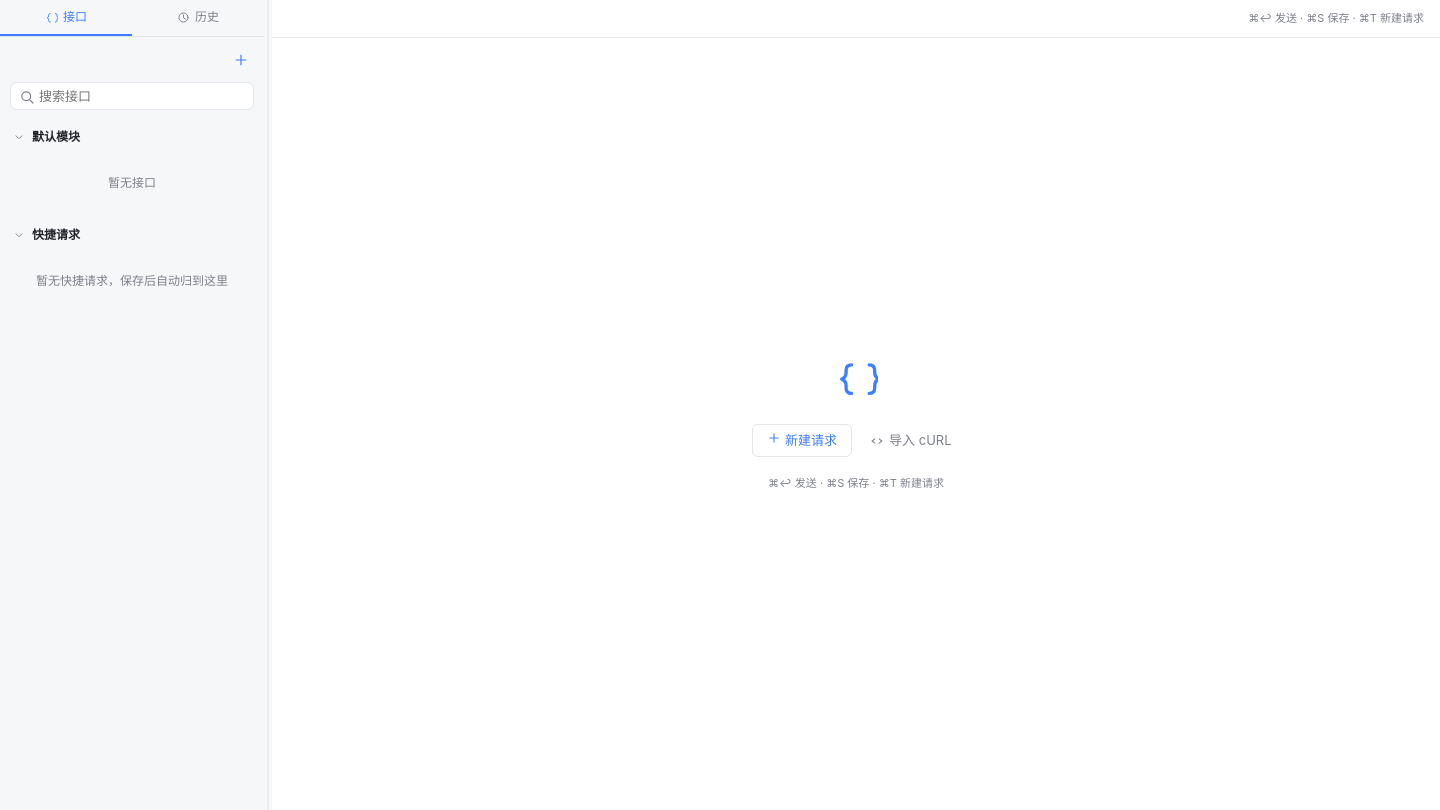
environment config › leaves the URL alone while no environment is active
Click the button "新建请求" at (802, 441), box [752, 424, 852, 457]
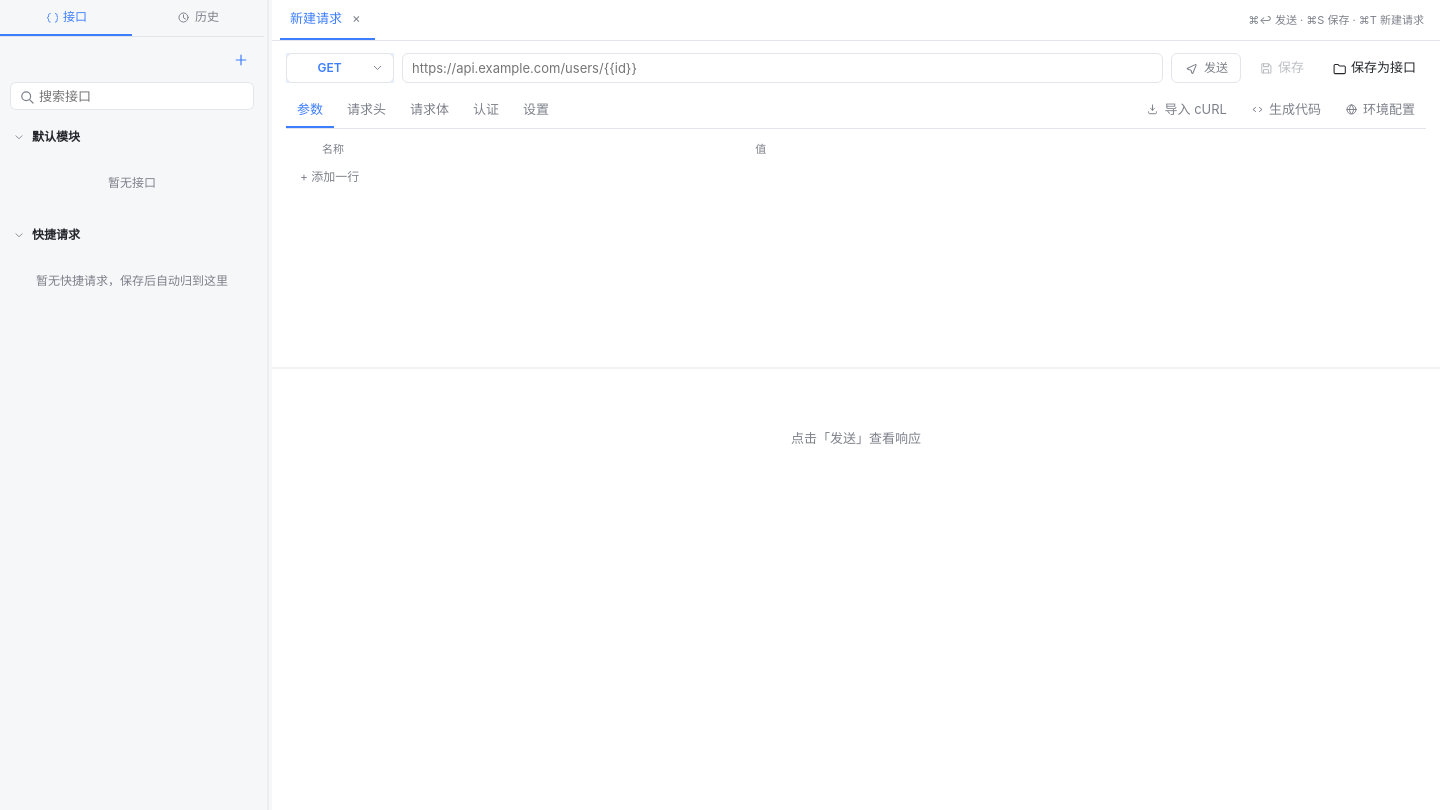
Type "https://api.example.com/users/1" into the field named "地址" at (782, 68), box [402, 52, 1163, 82]
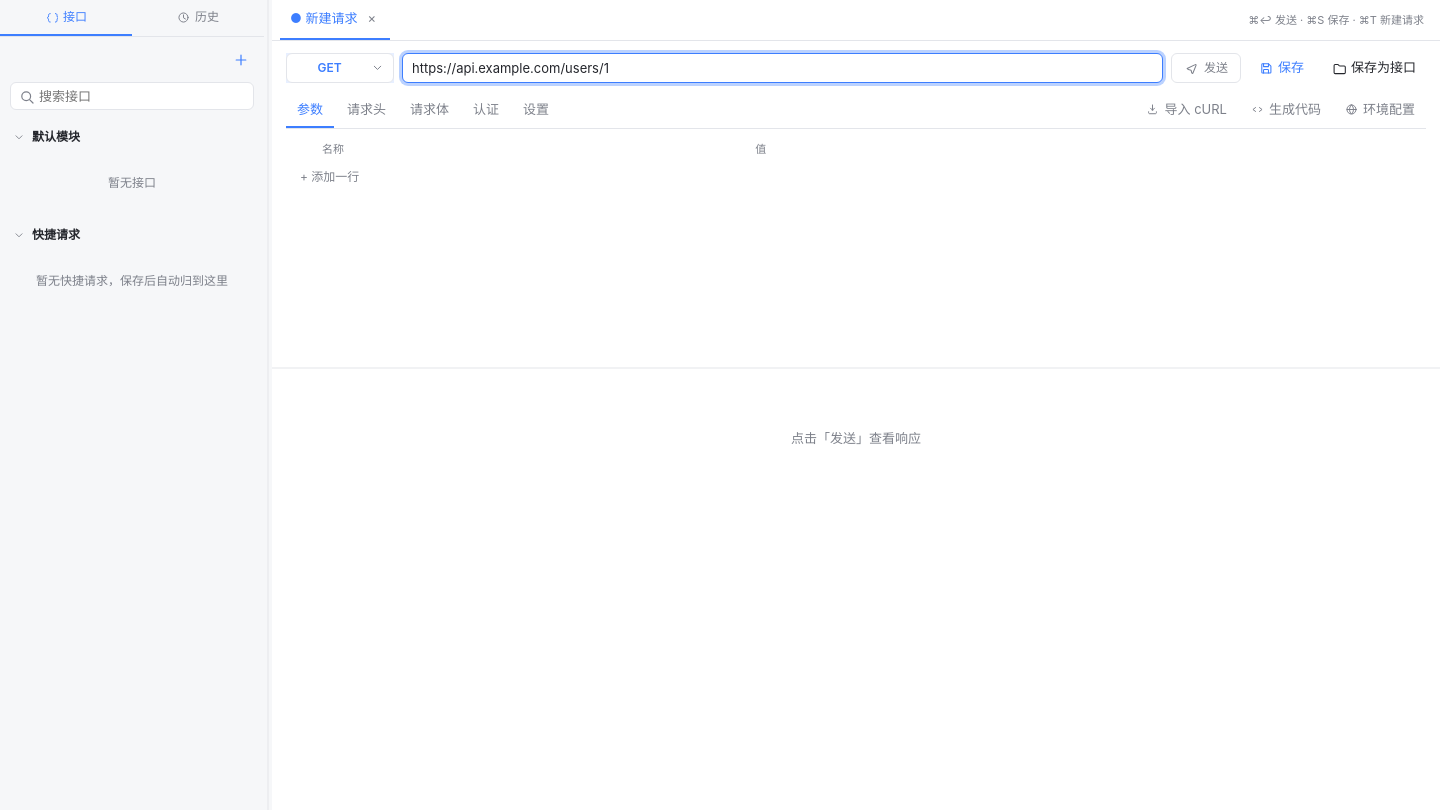
Click the button "环境配置" at (1380, 110), box [1334, 92, 1426, 128]
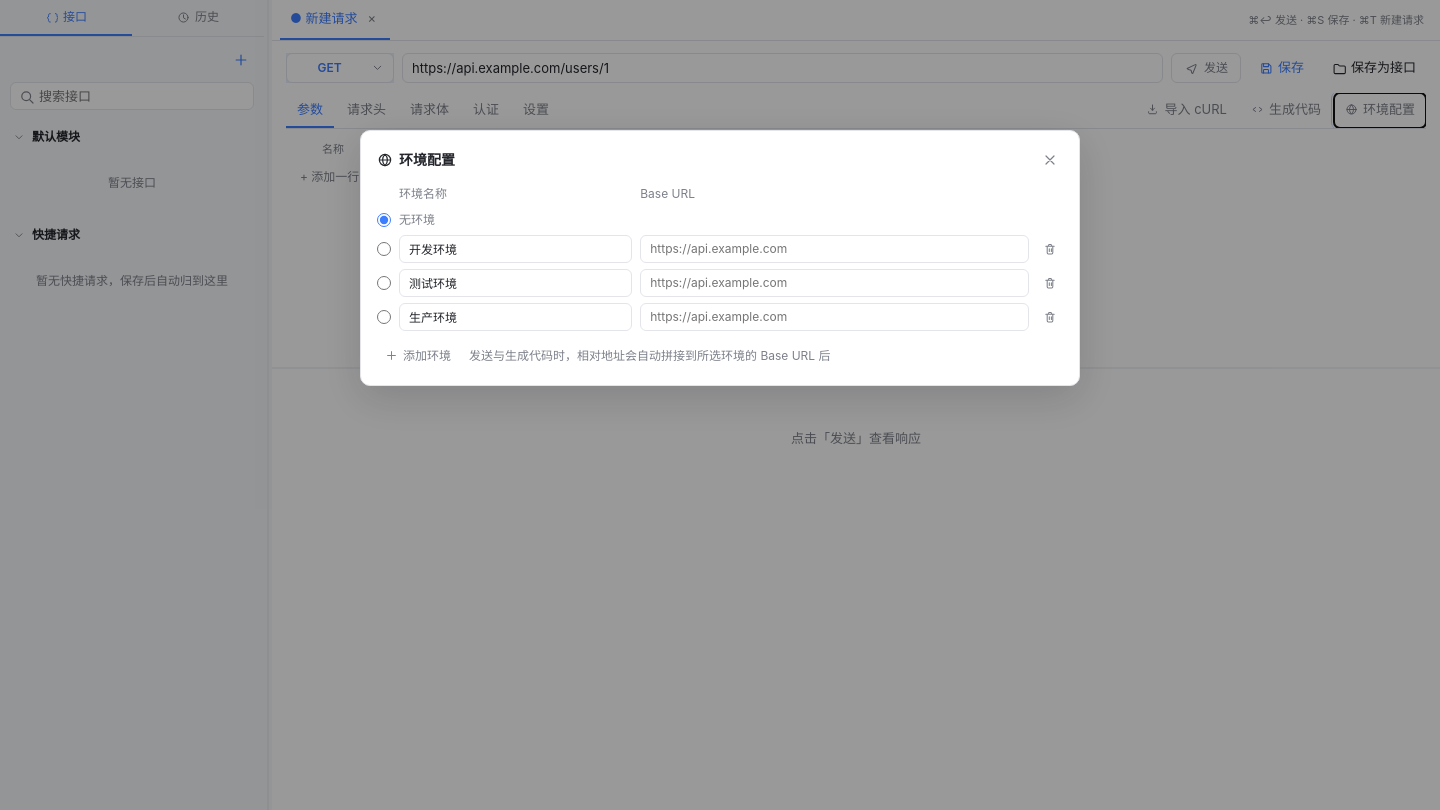
Click the button named "关闭" at (1050, 160), box [1037, 147, 1063, 173]
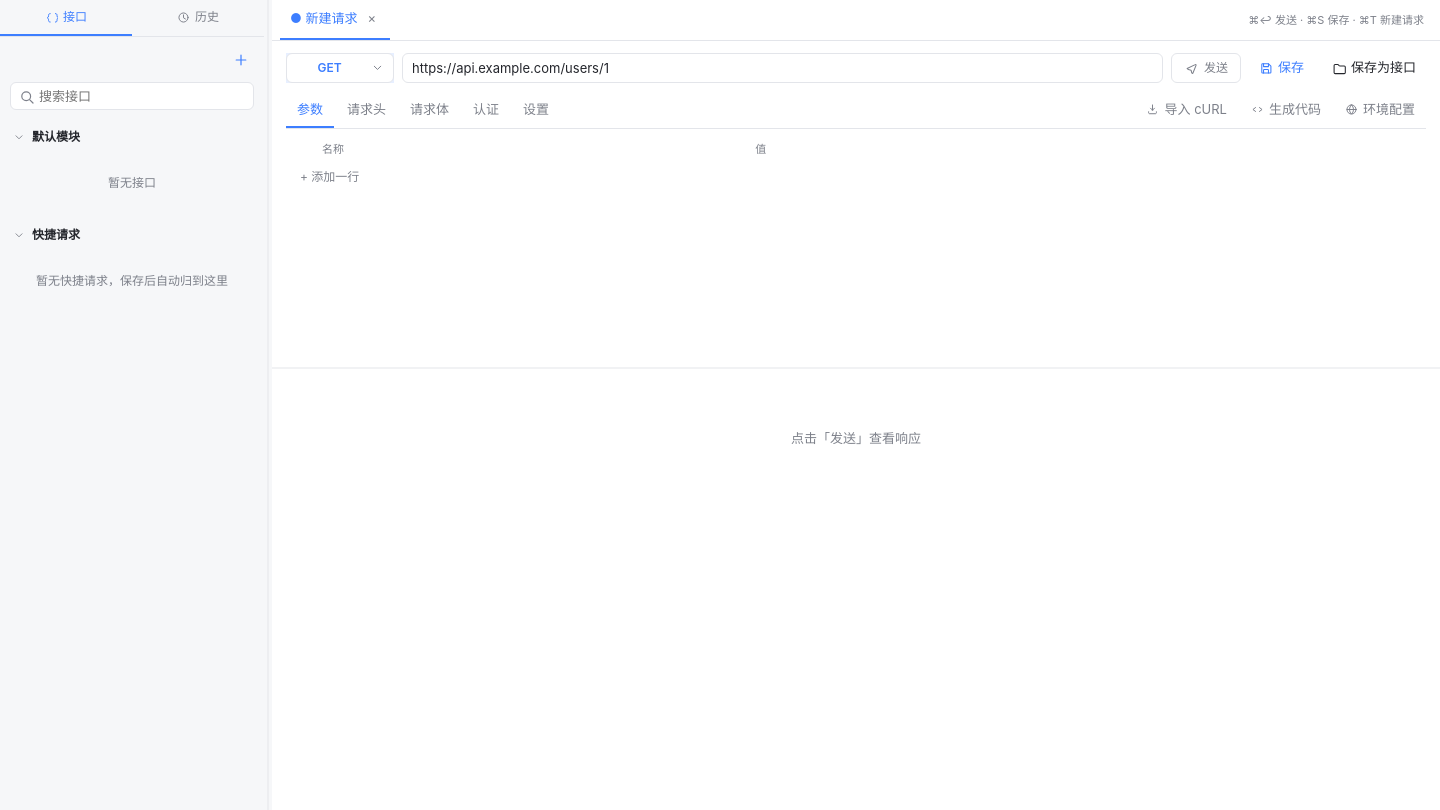
Click the button "发送" at (1206, 68), box [1171, 52, 1241, 82]
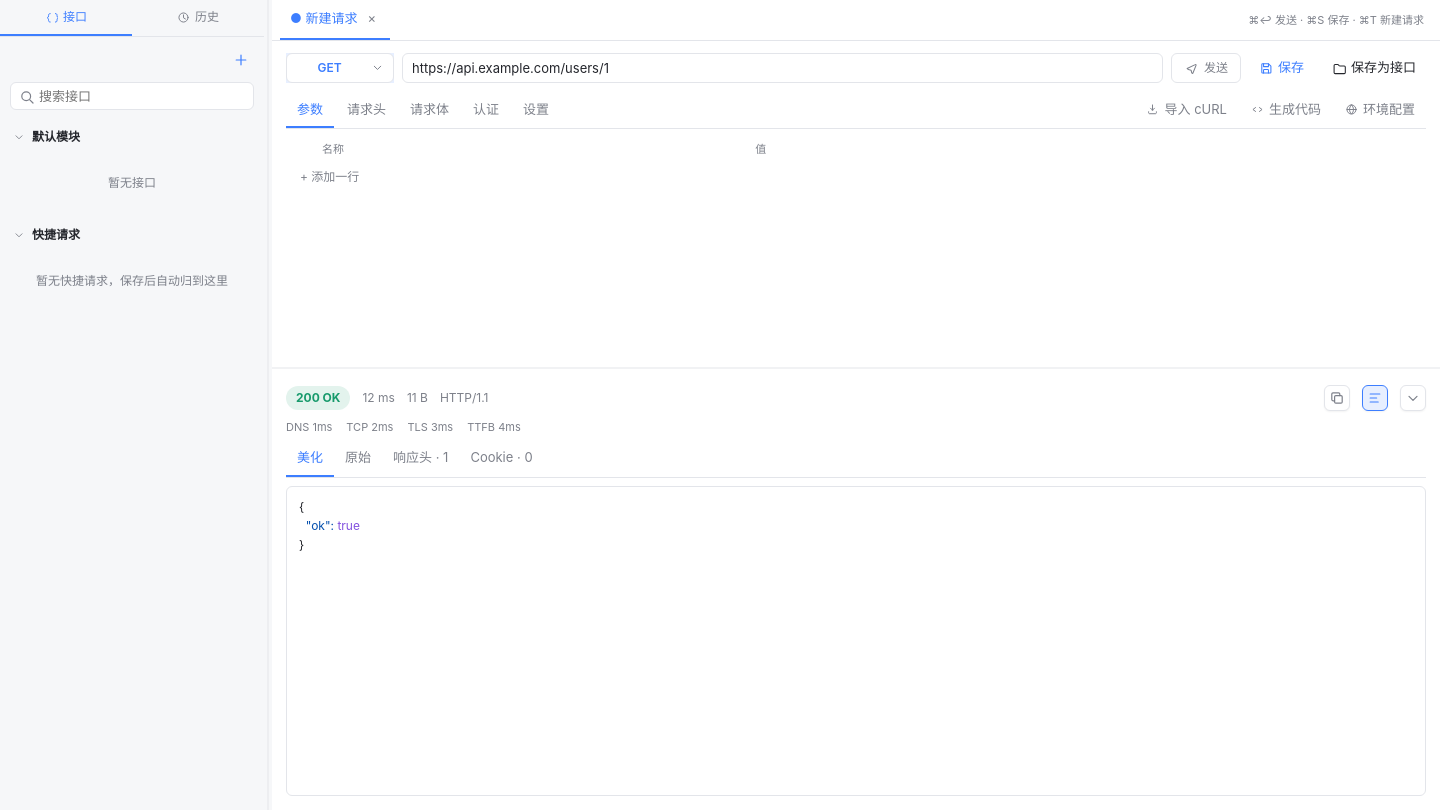
Result: the text "200 OK" is shown at [286, 386, 350, 410]
